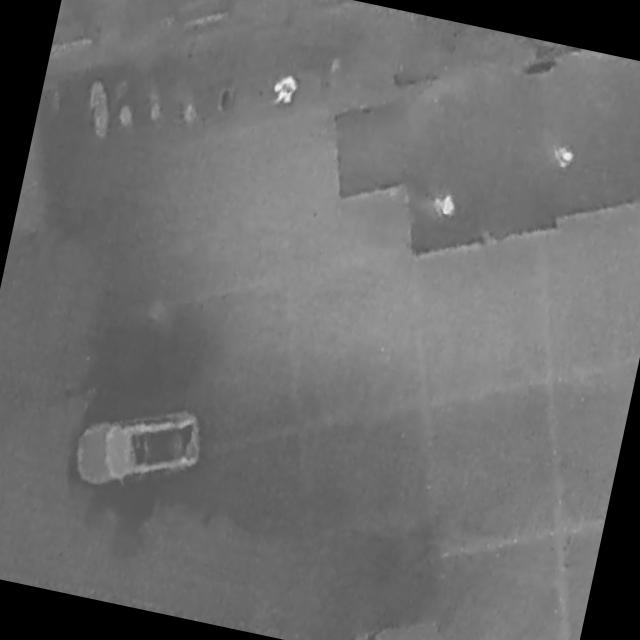person: (268, 69, 303, 113), (427, 185, 463, 225), (546, 140, 578, 175)
